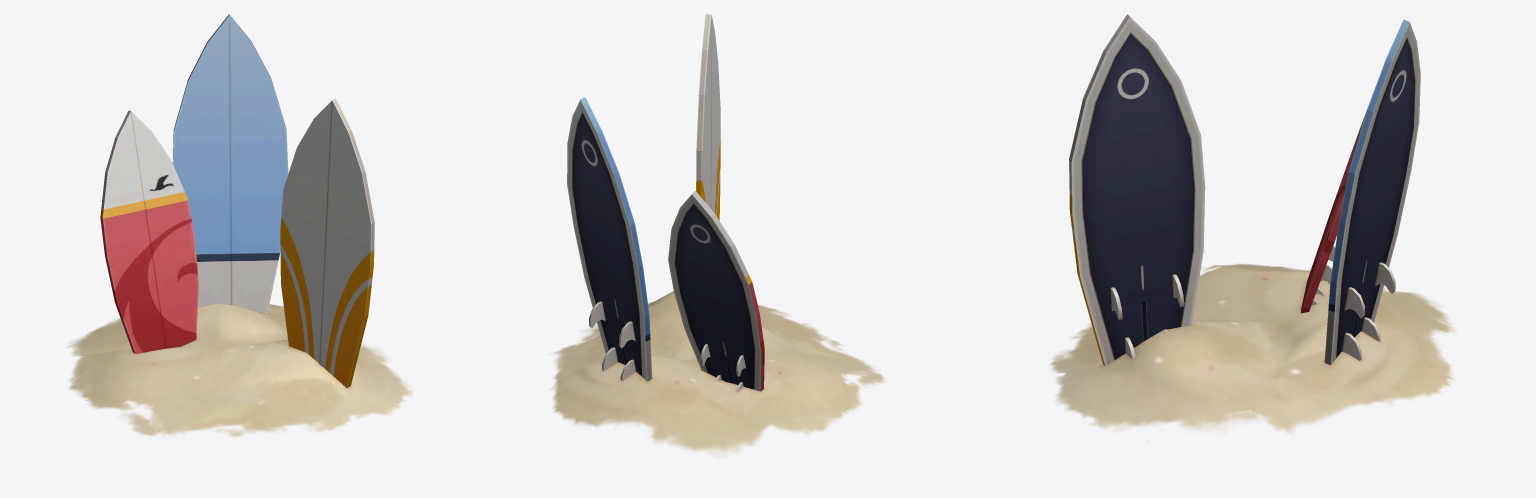
File: my_ariussummer_01_surfingboard_01.glb
The picture shows the model from 3 angles, left to right: view 1: azimuth 30°, elevation 25°; view 2: azimuth 150°, elevation 25°; view 3: azimuth 270°, elevation 25°; orthographic projection. The views are drawn at different scales.
Parts seen in each view (by area): view 1: my_ariussummer_01_surfingboard_01, my_ariussummer_01_surfingboard_01_a; view 2: my_ariussummer_01_surfingboard_01, my_ariussummer_01_surfingboard_01_a; view 3: my_ariussummer_01_surfingboard_01, my_ariussummer_01_surfingboard_01_a.
Boxes of the visible parts, bbox=[...] form: my_ariussummer_01_surfingboard_01: bbox=[100, 14, 374, 387]; my_ariussummer_01_surfingboard_01_a: bbox=[66, 303, 413, 437]; my_ariussummer_01_surfingboard_01: bbox=[567, 14, 764, 391]; my_ariussummer_01_surfingboard_01_a: bbox=[550, 291, 884, 458]; my_ariussummer_01_surfingboard_01: bbox=[1069, 14, 1420, 365]; my_ariussummer_01_surfingboard_01_a: bbox=[1049, 263, 1456, 434].
Bounding box in the file's own units: 0.0116 × 0.00896 × 0.0115.
2 materials, 2 textured.
